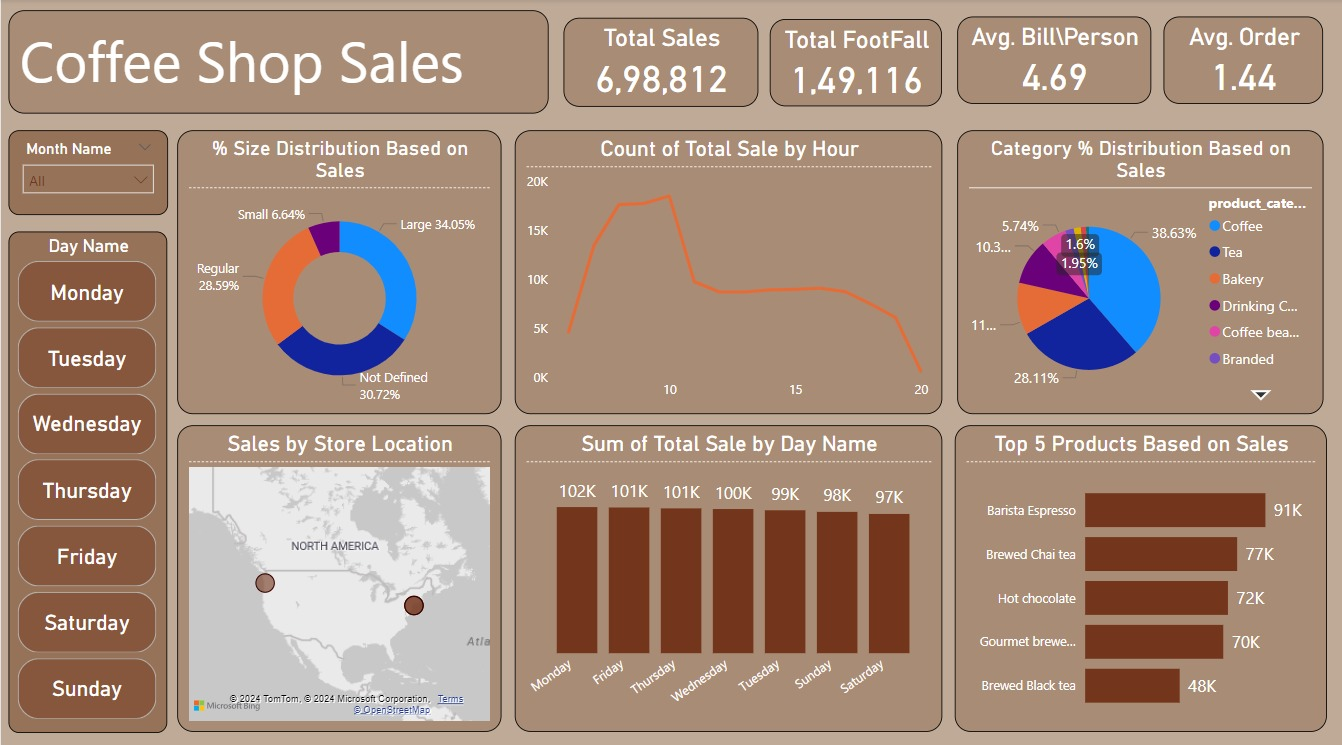

The page's visual inventory and layout, read from the dashboard file:
{"tool":"powerbi","page":{"name":"Page 1","canvas":[1280,720],"ordinal":0},"visuals":[{"type":"card","title":"Total Sales","fields":{"Values":["Sum(sheet1.Total Sale)"]},"box":[535.7,17.9,185.7,84.5],"z":0},{"type":"lineChart","fields":{"Category":["sheet1.Hour"],"Y":["CountNonNull(sheet1.Total Sale)"]},"box":[489.9,124.9,407.5,270.3],"z":1000},{"type":"card","title":"Total FootFall","fields":{"Values":["CountNonNull(sheet1.transaction_id)"]},"box":[732.1,19,164.3,83.3],"z":2000},{"type":"card","title":"Avg. Bill\\Person","fields":{"Values":["Avg(sheet1.Total Sale)"]},"box":[910.7,16.7,184.5,83.3],"z":3000},{"type":"card","title":"Avg. Order","fields":{"Values":["Avg(sheet1.transaction_qty)"]},"box":[1107.1,16.7,152.4,83.3],"z":4000},{"type":"donutChart","title":"% Size Distribution Based on Sales","fields":{"Category":["sheet1.Size"],"Y":["Sum(sheet1.Total Sale)"]},"box":[167.4,124.9,308.7,270.3],"z":5000},{"type":"pieChart","title":"Category % Distribution Based on Sales","fields":{"Y":["Sum(sheet1.Total Sale)"],"Category":["sheet1.product_category"]},"box":[911.2,124.9,348.5,270.3],"z":6000},{"type":"slicer","fields":{"Values":["sheet1.Month Name"]},"box":[6.9,124.9,152.3,81],"z":7000},{"type":"advancedSlicerVisual","fields":{"Values":["sheet1.Day Name"]},"box":[6.9,220.9,150.9,477.5],"z":8000},{"type":"barChart","title":"Top 5 Products Based on Sales","fields":{"Category":["sheet1.product_type"],"Y":["Sum(sheet1.Total Sale)"]},"box":[908.4,406.2,354,292.3],"z":9000},{"type":"columnChart","fields":{"Y":["Sum(sheet1.Total Sale)"],"Category":["sheet1.Day Name"]},"box":[489.9,406.2,407.5,292.3],"z":10000},{"type":"map","title":"Sales by Store Location","fields":{"Category":["sheet1.store_location"],"Size":["Sum(sheet1.Total Sale)"]},"box":[167.4,406.2,308.7,292.3],"z":11000},{"type":"textbox","box":[6.9,11,514.6,98.8],"z":12000}]}

Visuals, with their boxes in screenshot pixels (x1, y1, x2, y2), scaled from the page's 1280x720 canvas onto the 1342x745 screenshot:
"Total Sales" card: <box>562,19,756,106</box>
lineChart - sheet1.Hour x CountNonNull(sheet1.Total Sale): <box>514,129,941,409</box>
"Total FootFall" card: <box>768,20,940,106</box>
"Avg. Bill\Person" card: <box>955,17,1148,103</box>
"Avg. Order" card: <box>1161,17,1321,103</box>
"% Size Distribution Based on Sales" donutChart: <box>176,129,499,409</box>
"Category % Distribution Based on Sales" pieChart: <box>955,129,1321,409</box>
slicer - sheet1.Month Name: <box>7,129,167,213</box>
advancedSlicerVisual - sheet1.Day Name: <box>7,229,165,723</box>
"Top 5 Products Based on Sales" barChart: <box>952,420,1324,723</box>
columnChart - Sum(sheet1.Total Sale) x sheet1.Day Name: <box>514,420,941,723</box>
"Sales by Store Location" map: <box>176,420,499,723</box>
textbox: <box>7,11,547,114</box>
